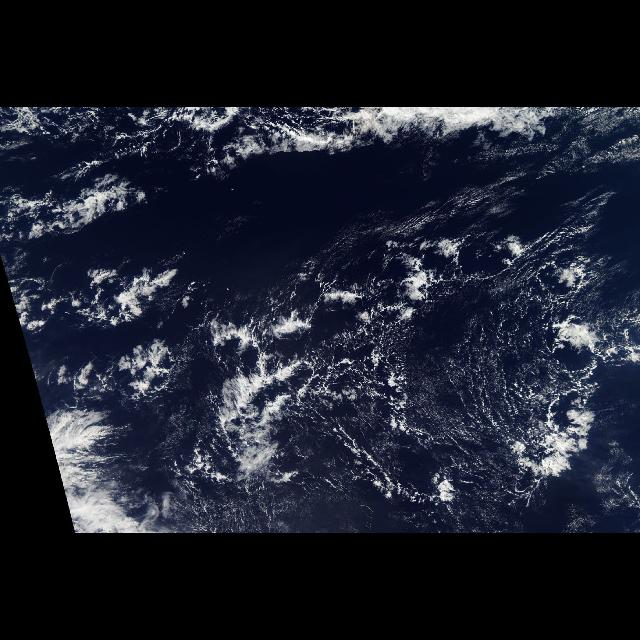Gravel: (309, 202, 561, 460)
Sugar: (431, 388, 522, 477)
